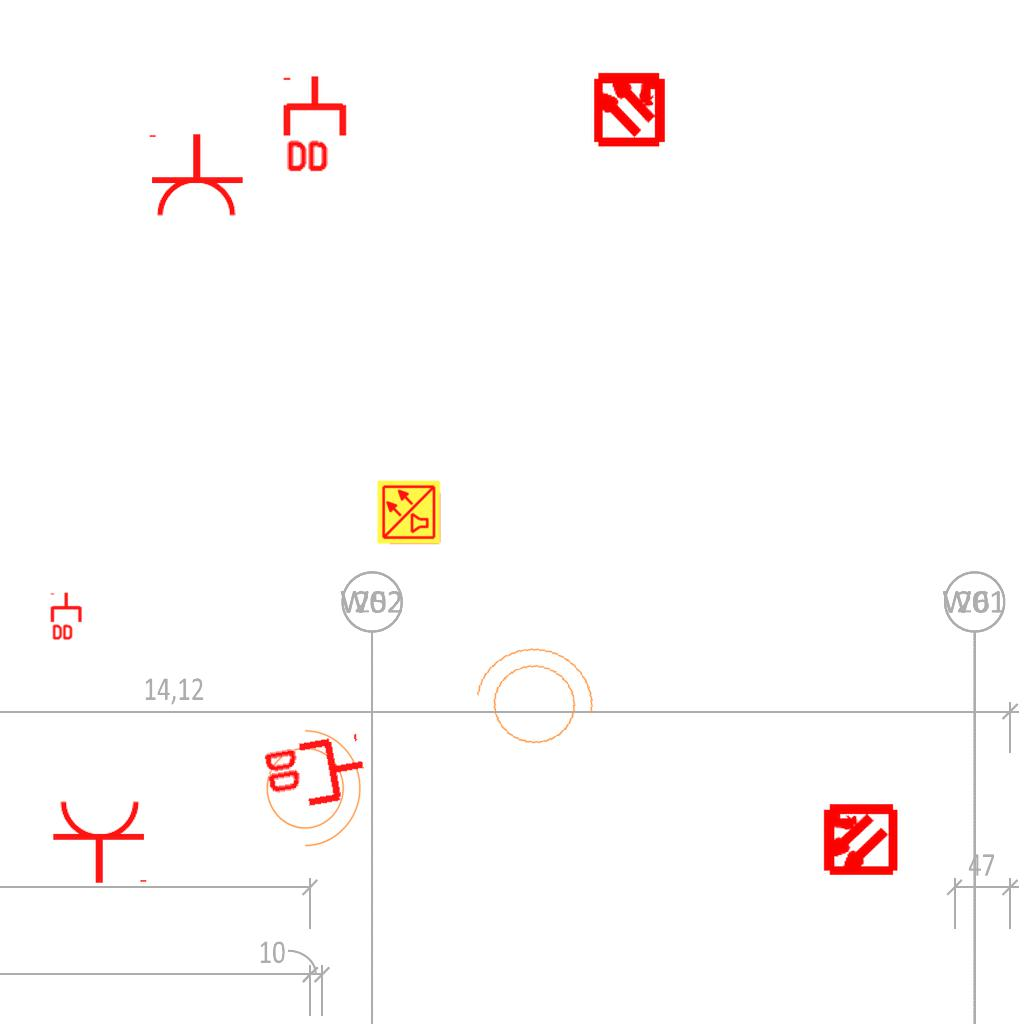Datenanschluss_zweifach: (258, 731, 373, 818), (282, 73, 351, 176), (50, 591, 84, 642)
OKW_Multisensormelder_(Kombination_optischer_Rauch-Kahlenmonoxid_Waerme-Melder): (376, 479, 442, 545)
OT_Multisensormelder_(Kombination_RMO_WMD): (573, 51, 686, 164), (802, 783, 915, 896)
Scheinwerfer_fuer_Alarmbeleuchtung: (458, 633, 606, 765), (254, 719, 366, 851)
Schukosteckdose_einfach: (145, 132, 245, 219), (51, 798, 151, 885)
